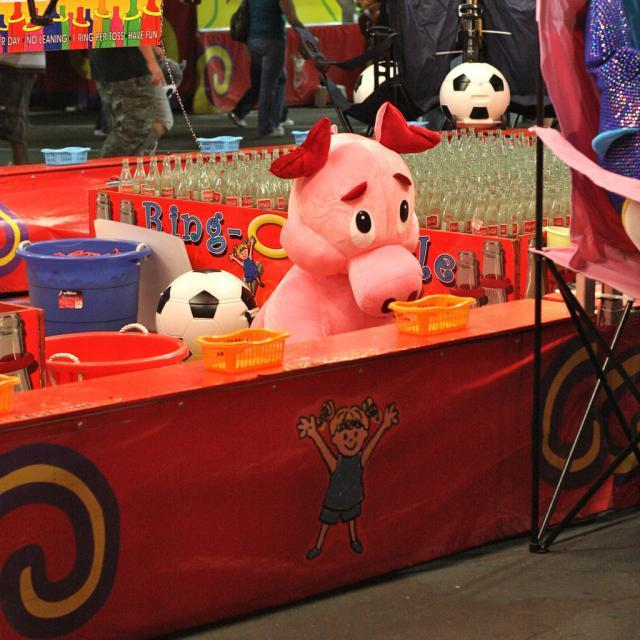football: (149, 259, 258, 359)
